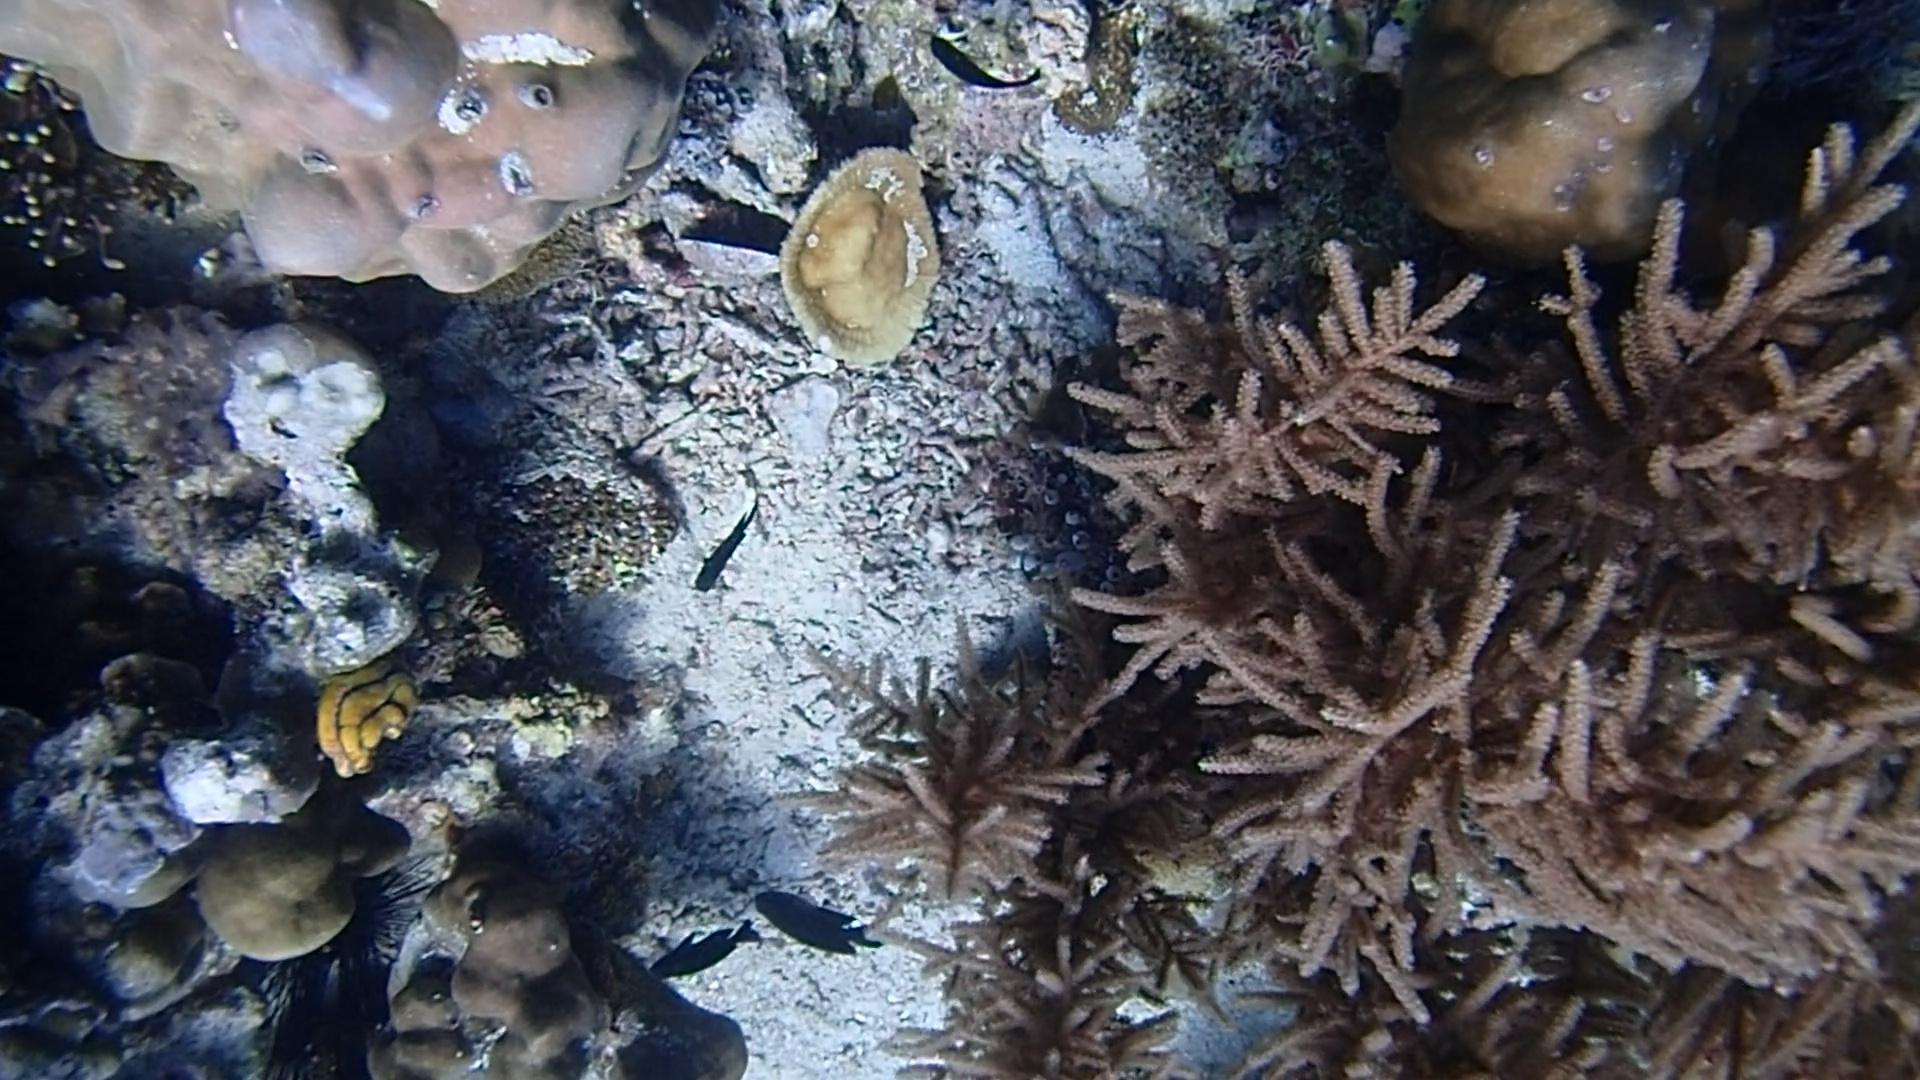Dark Fish: (745, 866, 890, 977), (916, 24, 1051, 107), (691, 492, 767, 607), (649, 924, 770, 989)
